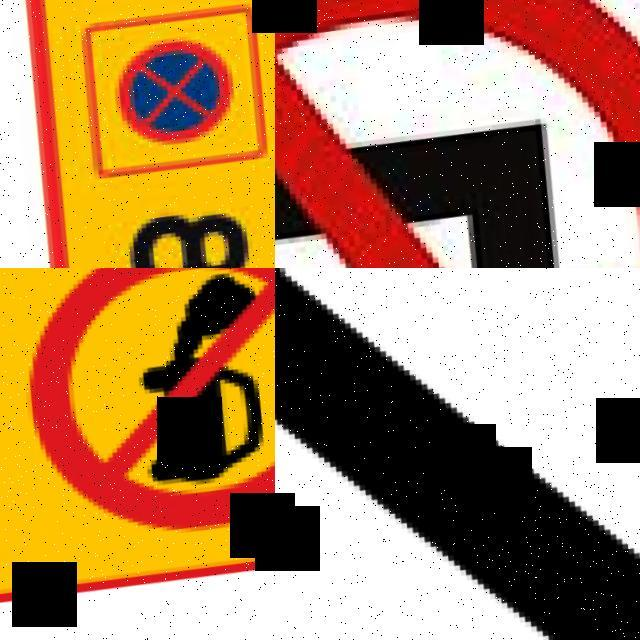181: (0, 0, 275, 268)
70: (0, 268, 275, 627)
End of all restrictions: (275, 268, 640, 640)
No Right turn: (275, 0, 640, 268)
